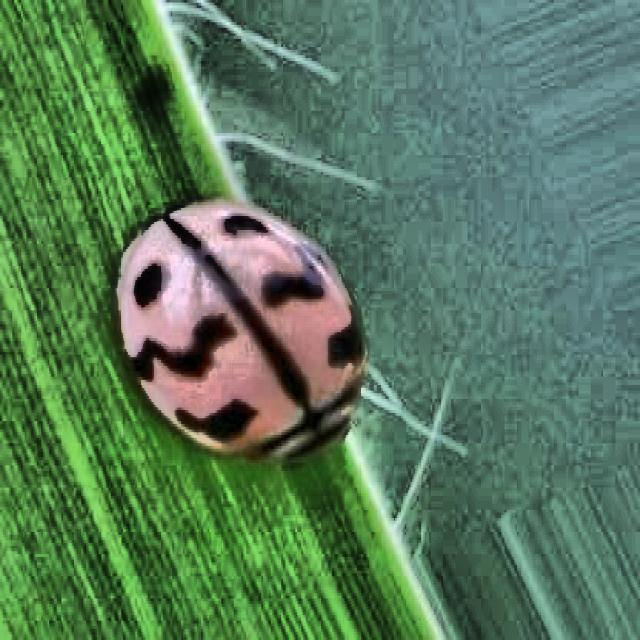Asian-Lady-beetle: (65, 111, 420, 564)
